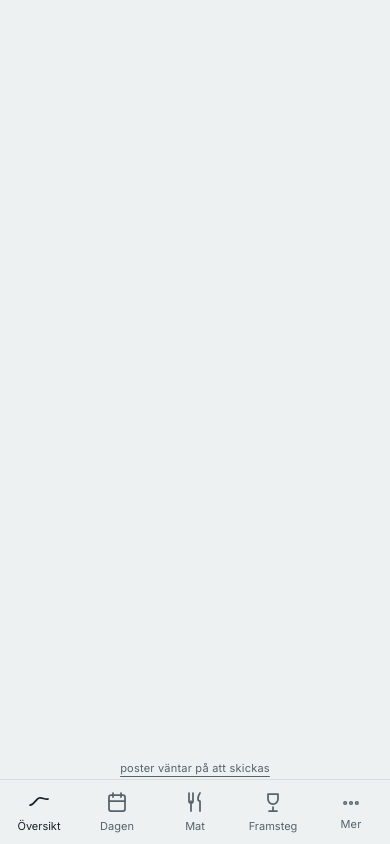
Test case: the pending-request marker › marks the admin row when something is waiting
Click the button with test id "nav-more" at (351, 812), box [312, 780, 389, 843]
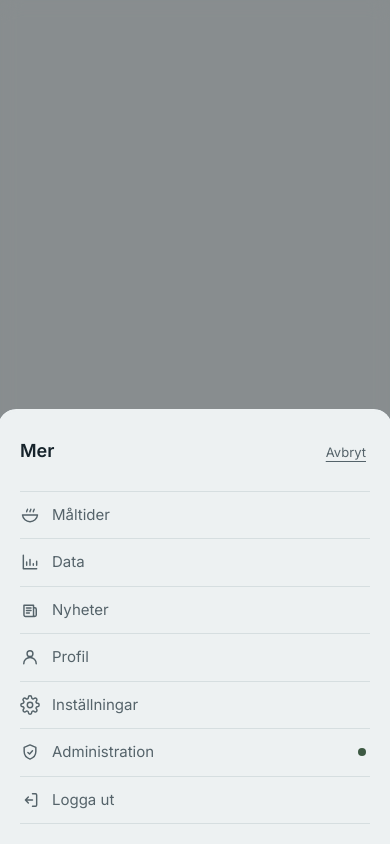
Expected: the link with test id "more-admin" is shown, [20, 742, 154, 762]
Expected: the element with test id "more-pending" is shown, [358, 748, 366, 756]
